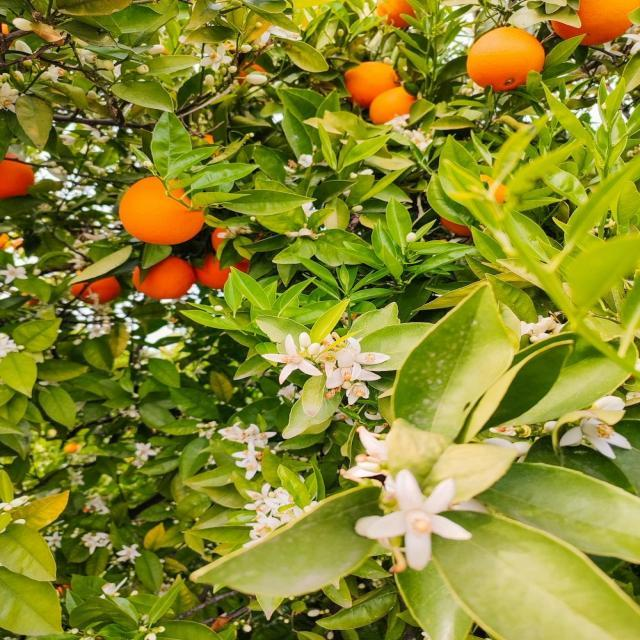Bunga: (356, 469, 472, 572), (558, 396, 632, 459), (261, 332, 325, 384), (322, 350, 384, 388), (338, 337, 392, 379), (313, 331, 350, 360), (200, 44, 232, 70), (243, 424, 278, 444), (246, 483, 276, 506), (234, 458, 264, 480), (405, 128, 428, 154), (346, 382, 370, 406), (232, 441, 262, 458), (133, 442, 158, 462), (217, 422, 243, 440), (284, 226, 316, 238), (117, 544, 141, 560), (298, 153, 314, 168), (246, 74, 268, 84), (300, 331, 312, 348), (136, 64, 150, 76), (148, 44, 164, 53), (204, 74, 214, 88), (406, 232, 418, 243), (240, 45, 252, 53), (227, 66, 238, 74), (337, 29, 345, 37), (349, 172, 358, 179), (146, 55, 154, 61), (255, 22, 262, 28), (250, 216, 256, 222)
Jeruk Sudah Matang: (118, 177, 205, 244), (467, 27, 546, 92), (551, 0, 640, 47), (132, 254, 196, 300), (194, 250, 258, 290), (370, 85, 429, 128), (346, 62, 400, 105), (70, 268, 122, 304), (0, 152, 37, 199), (376, 0, 426, 28)
